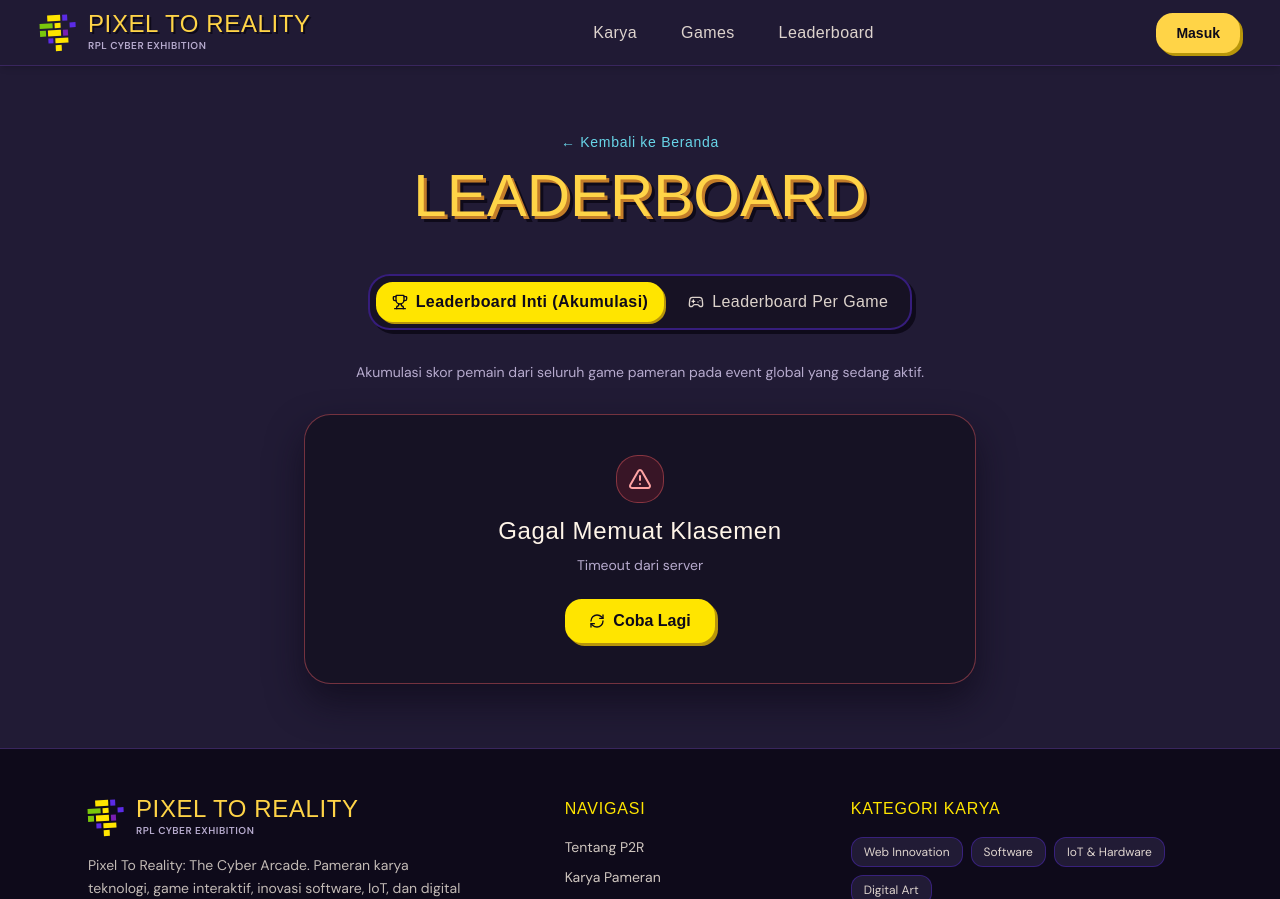
it: LeaderboardPage & LeaderboardSection (Dual Live Leaderboard) › Overall & Per-Game Live Mode › renders error state and retries with forceRefresh when Coba Lagi is clicked
Check: the message with test id "leaderboard-error-state" shows "Timeout dari server", box [577,556,703,574]
Click the button "Coba Lagi": [640, 621] box [565,599,715,643]
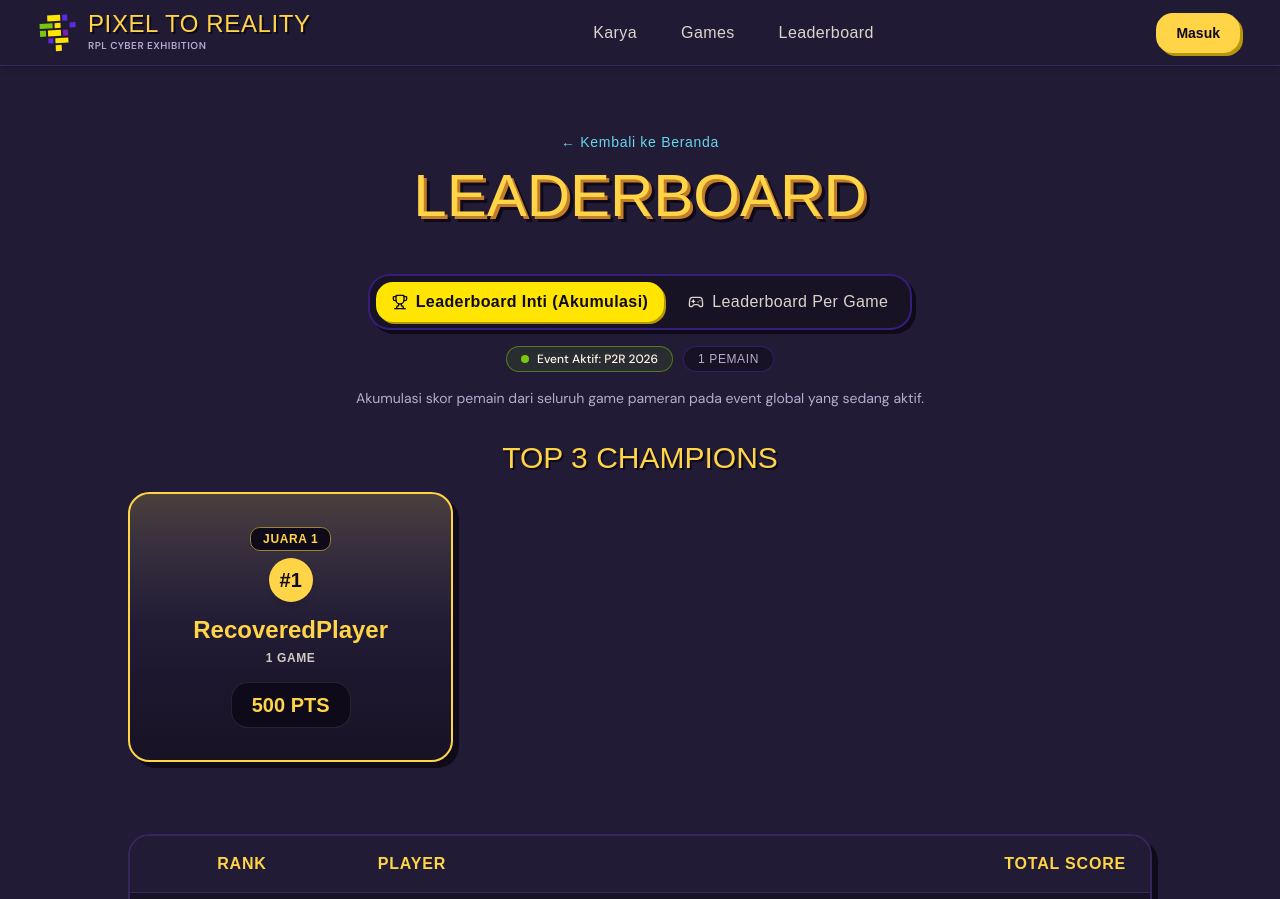
Check: the heading "RecoveredPlayer" is shown, box [193,616,388,643]
